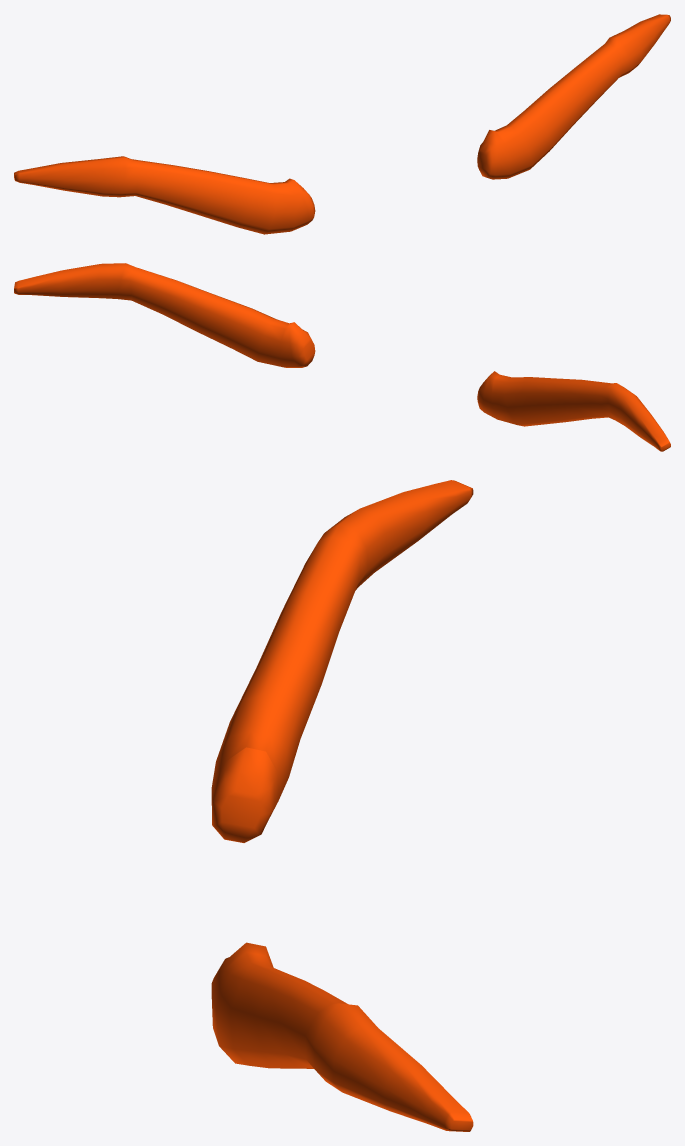
Rendered from Eyebrows_16_06.fbx.
3 views of the same model, one above another, from view 1: azimuth 30°, elevation 25°; view 2: azimuth 150°, elevation 25°; view 3: azimuth 270°, elevation 25° (orthographic). The views are drawn at different scales.
Visible parts, largest first — view 1: Eyebrows_16_06; view 2: Eyebrows_16_06; view 3: Eyebrows_16_06.
Part boxes in pixels (left/top/right/bottom): Eyebrows_16_06: left=14, top=14, right=670, bottom=234; Eyebrows_16_06: left=14, top=263, right=670, bottom=451; Eyebrows_16_06: left=211, top=480, right=473, bottom=1131.
Size of the model in its own units: 18.79 by 2.42 by 3.25.
